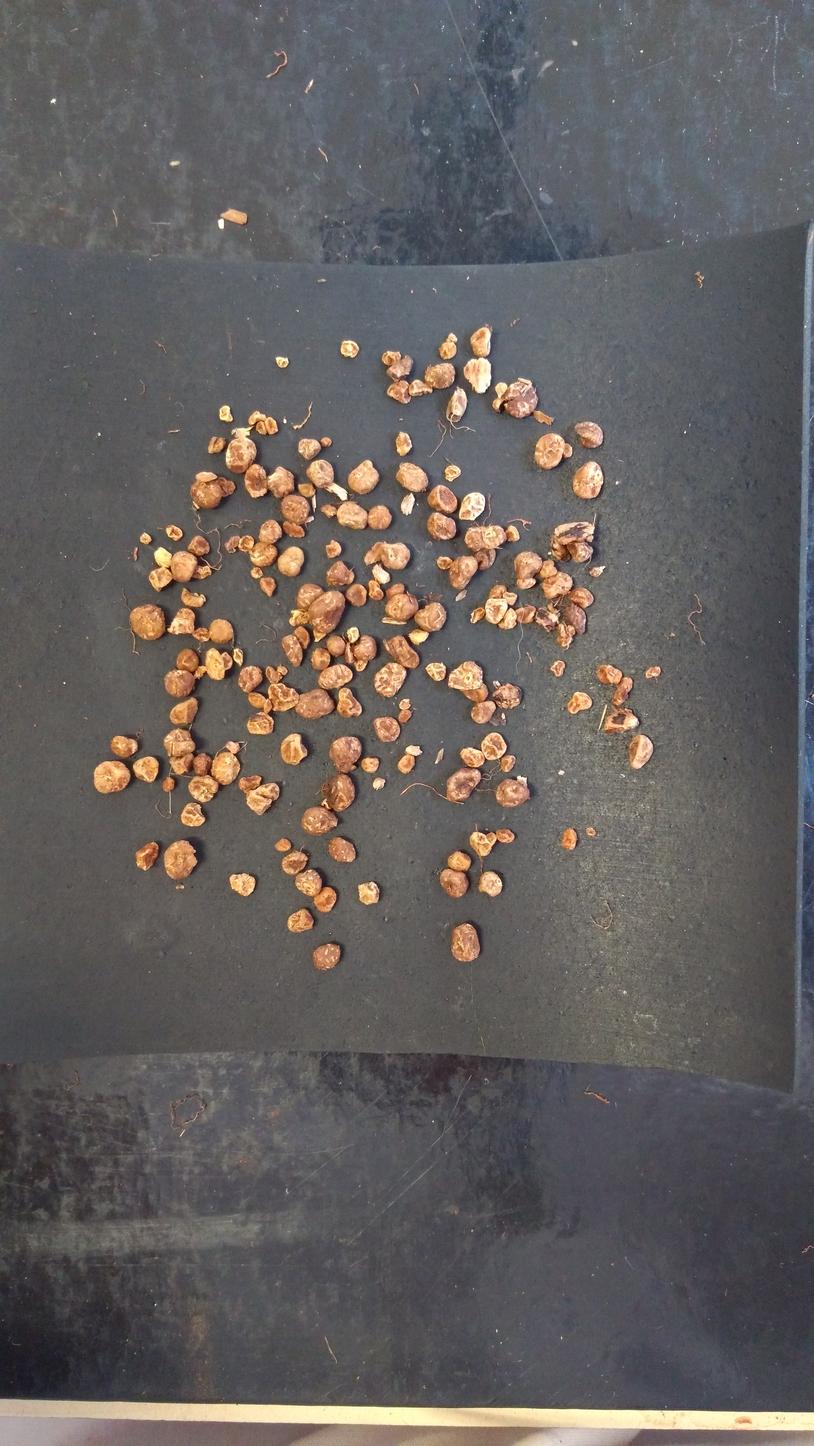nodule: (491, 377, 542, 425), (446, 917, 493, 965), (316, 769, 359, 816), (162, 837, 206, 882), (306, 591, 351, 634), (442, 762, 485, 807), (126, 598, 168, 644), (90, 756, 132, 798), (242, 780, 287, 819), (530, 428, 567, 474), (384, 633, 423, 675), (294, 688, 339, 724), (223, 436, 262, 477), (307, 941, 344, 984), (276, 727, 311, 772), (297, 804, 343, 838), (328, 732, 363, 776), (371, 661, 413, 697), (572, 456, 605, 500), (531, 592, 564, 636), (537, 565, 576, 602), (167, 545, 199, 589), (455, 488, 491, 527), (347, 459, 387, 494), (392, 460, 433, 494), (348, 633, 382, 674), (242, 459, 274, 502), (461, 521, 510, 549), (444, 553, 480, 591), (161, 665, 199, 701), (447, 658, 486, 693), (493, 775, 530, 811), (224, 867, 261, 903), (462, 357, 495, 397), (411, 601, 451, 634), (188, 478, 224, 514), (277, 490, 312, 527), (164, 695, 205, 726), (444, 383, 474, 425), (164, 602, 200, 637), (265, 462, 298, 500), (316, 661, 356, 692), (274, 544, 309, 579), (573, 419, 609, 453), (422, 359, 460, 391), (625, 732, 657, 770), (601, 706, 644, 734), (336, 687, 366, 727), (365, 504, 401, 537), (293, 866, 330, 898), (564, 598, 591, 641), (185, 773, 221, 805), (266, 680, 299, 714), (438, 868, 470, 903), (350, 878, 385, 910), (384, 591, 420, 622), (276, 848, 312, 879), (371, 712, 401, 749), (211, 750, 242, 785), (205, 614, 238, 646), (424, 513, 458, 544), (293, 580, 327, 611), (163, 727, 197, 758), (335, 499, 370, 529), (107, 732, 143, 761), (426, 484, 459, 515), (512, 548, 543, 581), (131, 753, 162, 786), (246, 539, 280, 569), (477, 730, 507, 764), (243, 708, 274, 740), (130, 839, 161, 871), (173, 643, 205, 674), (380, 539, 411, 571), (384, 352, 417, 382), (492, 684, 529, 710), (468, 697, 501, 726), (277, 630, 303, 666), (382, 378, 414, 407), (323, 559, 356, 587), (458, 741, 486, 774), (436, 330, 463, 364), (326, 834, 356, 864), (308, 885, 338, 915), (468, 323, 494, 357), (558, 619, 581, 657), (468, 830, 498, 859), (476, 869, 504, 900), (180, 584, 211, 612), (254, 518, 287, 544), (236, 664, 265, 693), (286, 907, 315, 936), (236, 771, 267, 798), (545, 534, 571, 566), (564, 687, 591, 717), (292, 435, 324, 460), (191, 748, 216, 780), (483, 594, 509, 624), (178, 802, 208, 828), (460, 683, 495, 705), (145, 563, 169, 595), (338, 336, 365, 364), (547, 650, 571, 681), (423, 661, 451, 687), (166, 750, 194, 776), (569, 584, 599, 608), (568, 539, 594, 566), (474, 547, 502, 572), (345, 579, 369, 608), (403, 624, 433, 647), (394, 426, 415, 458), (151, 543, 174, 572), (186, 534, 213, 558), (361, 539, 385, 566), (406, 378, 436, 399), (308, 641, 329, 671), (496, 608, 521, 633), (497, 754, 521, 780), (445, 850, 471, 874), (399, 735, 425, 759), (189, 559, 215, 583), (279, 518, 307, 540), (502, 520, 525, 546), (537, 558, 563, 580), (323, 633, 345, 659), (559, 826, 580, 853), (603, 659, 623, 687), (516, 602, 539, 626), (244, 687, 267, 711), (395, 754, 419, 777), (360, 751, 383, 775), (379, 348, 405, 369), (285, 608, 311, 629), (365, 578, 385, 605), (158, 774, 180, 798), (606, 685, 628, 708), (216, 475, 238, 498), (596, 659, 613, 688), (433, 551, 455, 573), (220, 533, 244, 553), (393, 707, 417, 727), (293, 622, 310, 650), (164, 523, 185, 545), (255, 577, 278, 597), (193, 467, 220, 484), (513, 572, 538, 590), (485, 583, 511, 600), (384, 580, 406, 600), (236, 533, 258, 553), (442, 464, 463, 484), (206, 434, 227, 454), (372, 563, 392, 584), (273, 351, 295, 370), (264, 663, 282, 686), (468, 604, 485, 628), (262, 415, 281, 436), (501, 588, 522, 607), (296, 480, 317, 499), (322, 540, 345, 557), (494, 826, 517, 843), (217, 404, 237, 423), (645, 661, 664, 680), (261, 696, 277, 718), (189, 626, 211, 642), (400, 494, 416, 516), (494, 379, 509, 402), (273, 836, 292, 853), (223, 739, 243, 755), (246, 409, 267, 424), (320, 501, 338, 518), (369, 774, 388, 790), (138, 531, 153, 549), (617, 676, 634, 691), (561, 441, 574, 460), (395, 697, 414, 710), (249, 563, 265, 578), (255, 421, 269, 437), (346, 625, 360, 641), (320, 437, 334, 448)
